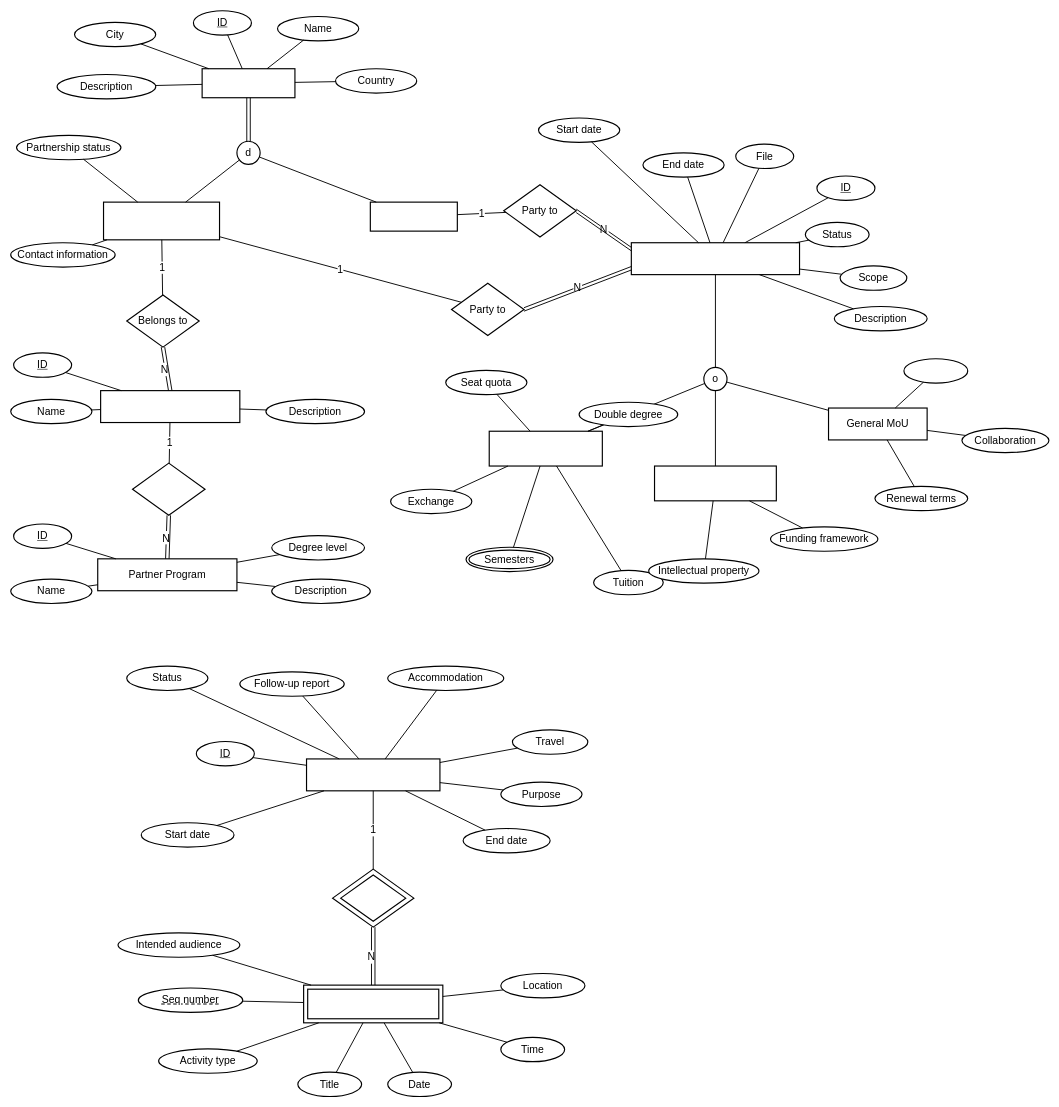
This 1059x1107 diagram has some shape labels left out. Each missing label, with the box of its shape:
Agenda Item: (307, 988, 439, 1019)
Belongs: (340, 874, 406, 922)
Cooperation Agreement: (630, 242, 800, 275)
GIU: (369, 201, 458, 231)
Intent: (903, 358, 968, 383)
Mobility Agreement: (488, 430, 603, 466)
Offers: (132, 462, 205, 516)
Partner Department: (100, 390, 240, 423)
Partner University: (103, 201, 220, 240)
Professor Visit: (306, 758, 440, 791)
Research Agreement: (654, 465, 777, 501)
University: (201, 68, 295, 98)
